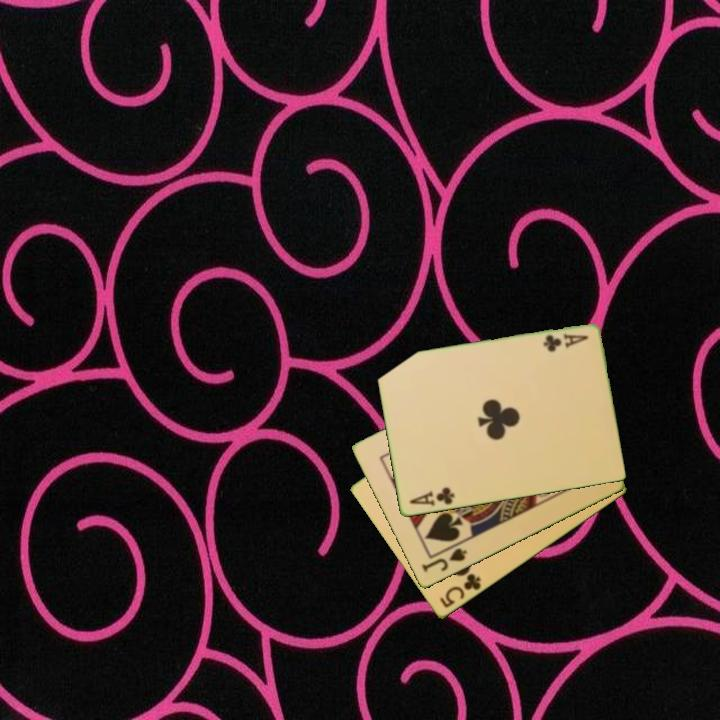5c: (436, 570, 484, 611)
Ac: (405, 484, 457, 509), (539, 330, 591, 355)
Js: (418, 545, 470, 576)
